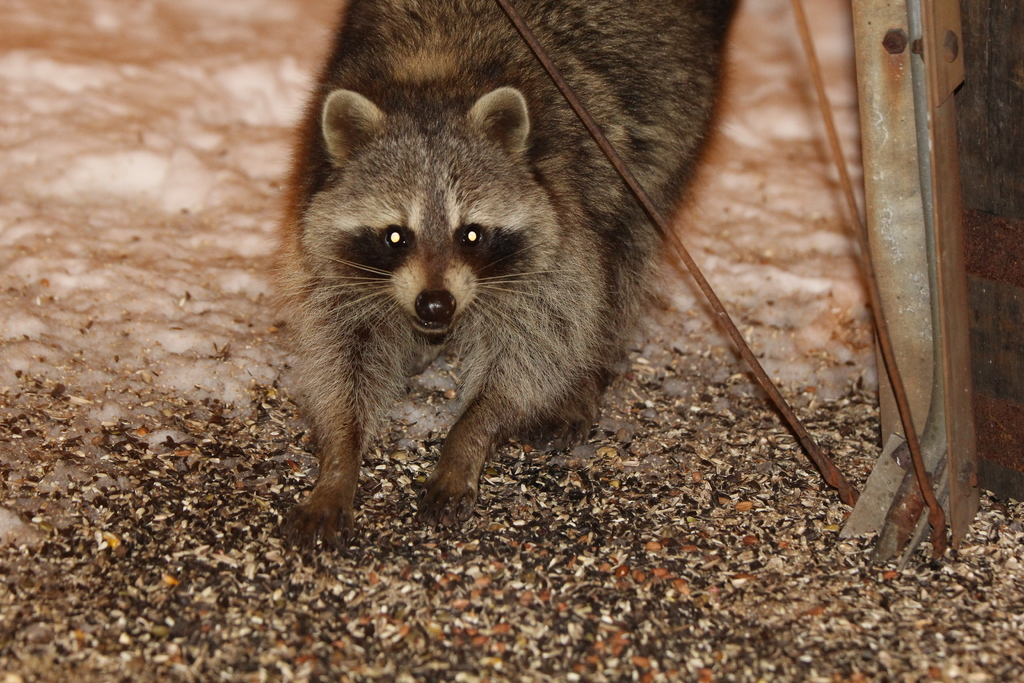raccoon: (281, 1, 746, 548)
